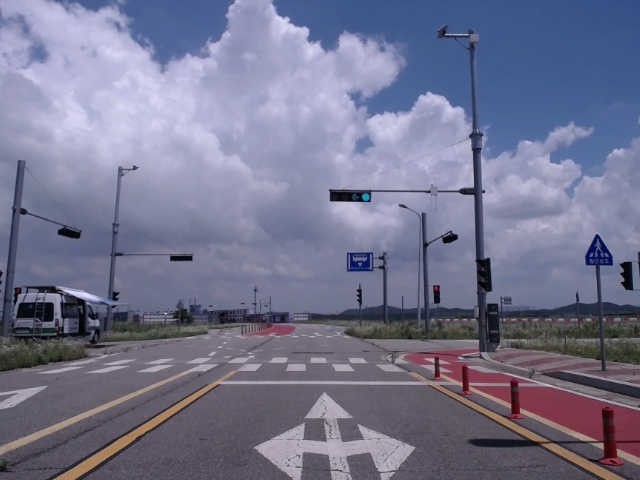all_green_4: (327, 191, 374, 202)
